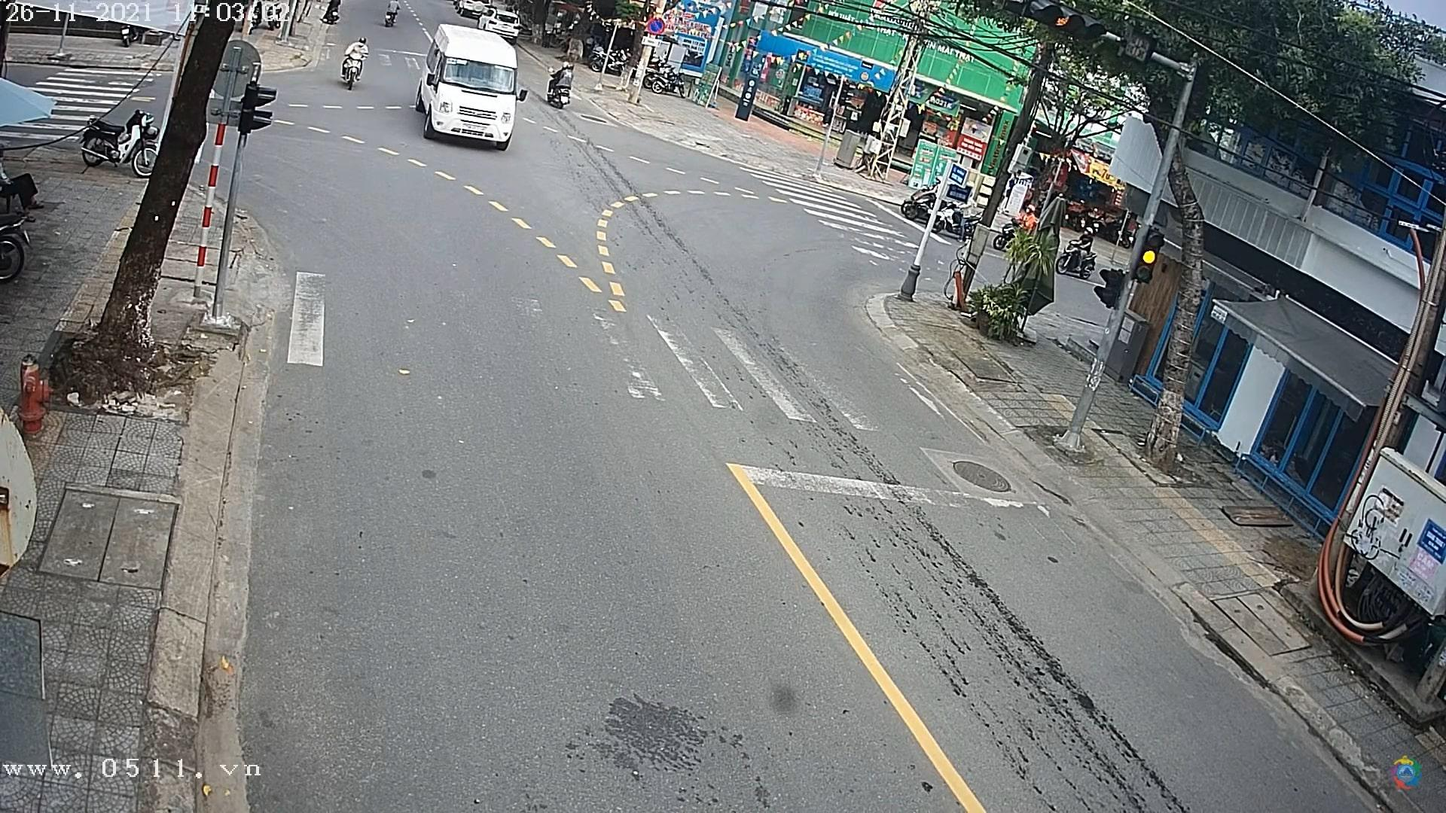car: (419, 27, 525, 151)
motorbike: (547, 69, 572, 110), (342, 50, 365, 90)
